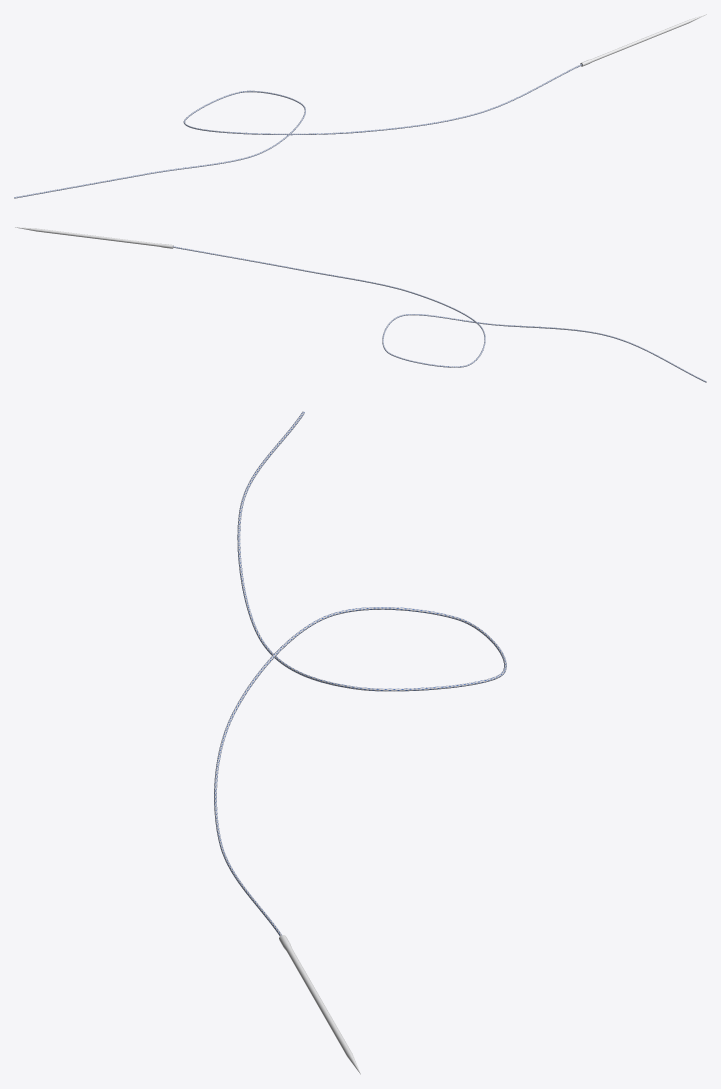
Rendered from ortholoop.glb.
3 renders of one model, top to bottom at view 1: azimuth 30°, elevation 25°; view 2: azimuth 150°, elevation 25°; view 3: azimuth 270°, elevation 25°, orthographic. The views are drawn at different scales.
Parts seen in each view (by area): view 1: strand, needle; view 2: strand, needle; view 3: strand, needle.
Boxes of the visible parts, bbox=[...] form: strand: bbox=[14, 64, 581, 198]; needle: bbox=[580, 14, 706, 66]; strand: bbox=[173, 246, 706, 382]; needle: bbox=[15, 227, 173, 248]; strand: bbox=[214, 411, 506, 935]; needle: bbox=[279, 935, 360, 1074].
Bounding box in the file's own units: 0.3023 × 0.0066 × 0.0565.
2 materials, 1 textured.
